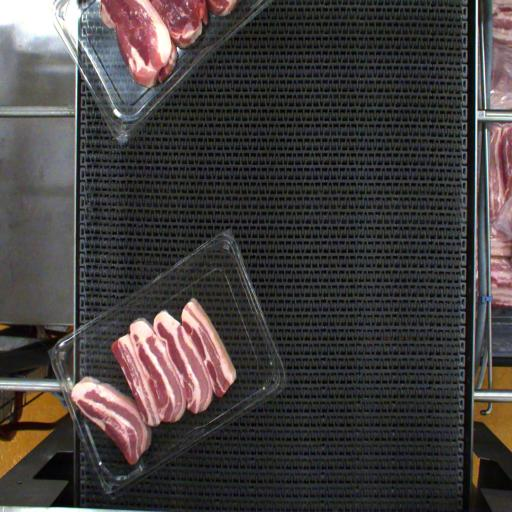loose-meat: (74, 358, 154, 460)
